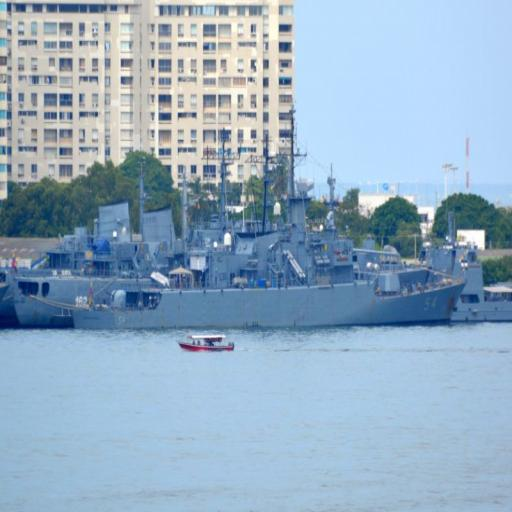Fragata: (6, 110, 472, 335)
